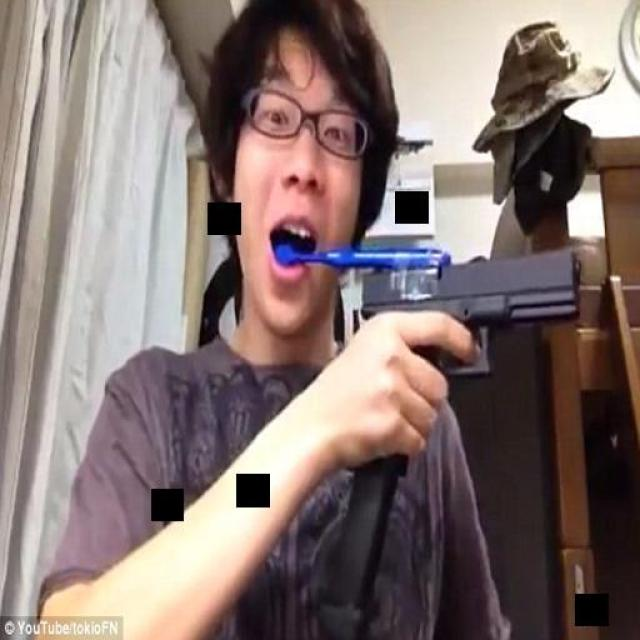gun: (351, 237, 585, 478)
